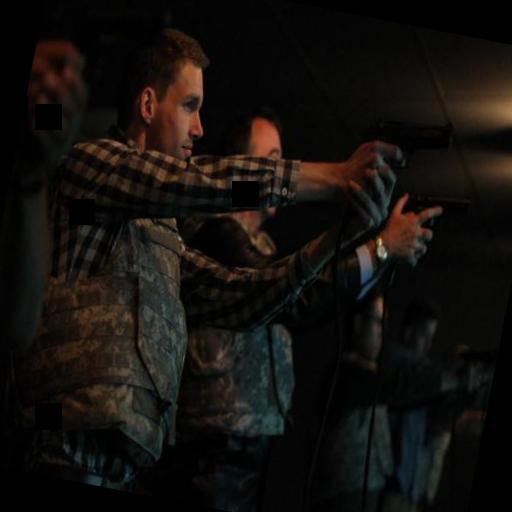Handgun: (356, 104, 456, 188), (404, 180, 475, 240)
